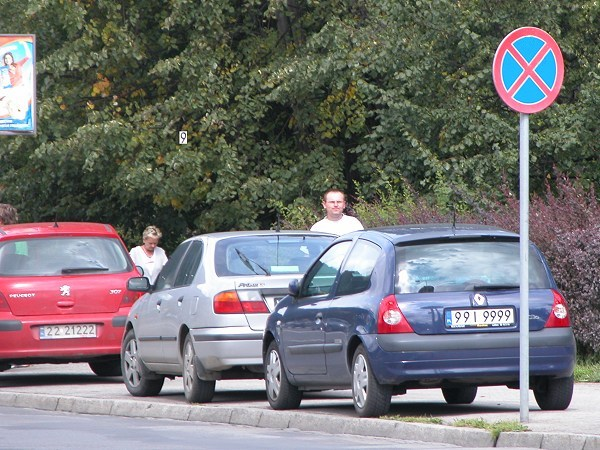no_stopping_sign: (493, 27, 564, 114)
